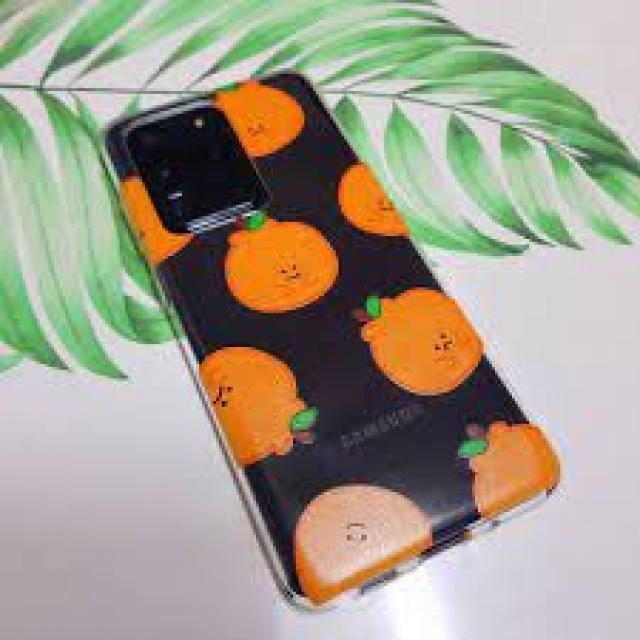Mobile: (96, 74, 605, 602)
